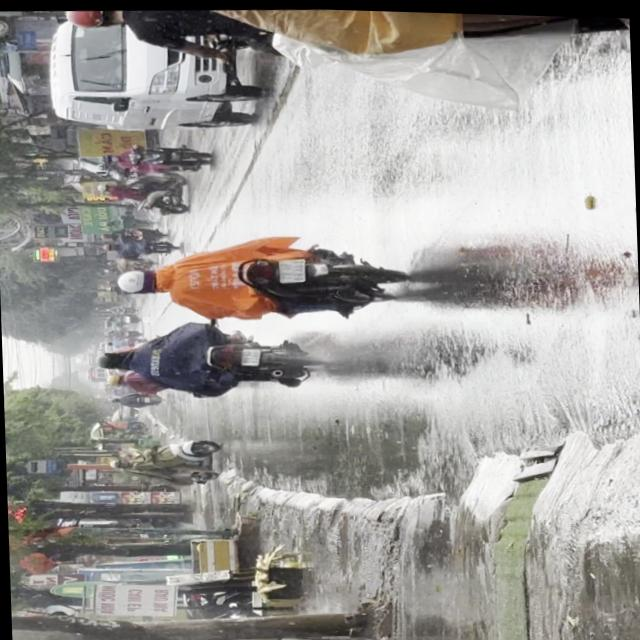helmet: (113, 265, 160, 294), (63, 8, 120, 30), (92, 348, 128, 370)
licenseplate: (39, 1, 629, 86), (109, 223, 414, 328), (89, 316, 325, 402)
nohelmet: (276, 256, 303, 280), (238, 346, 258, 363)
